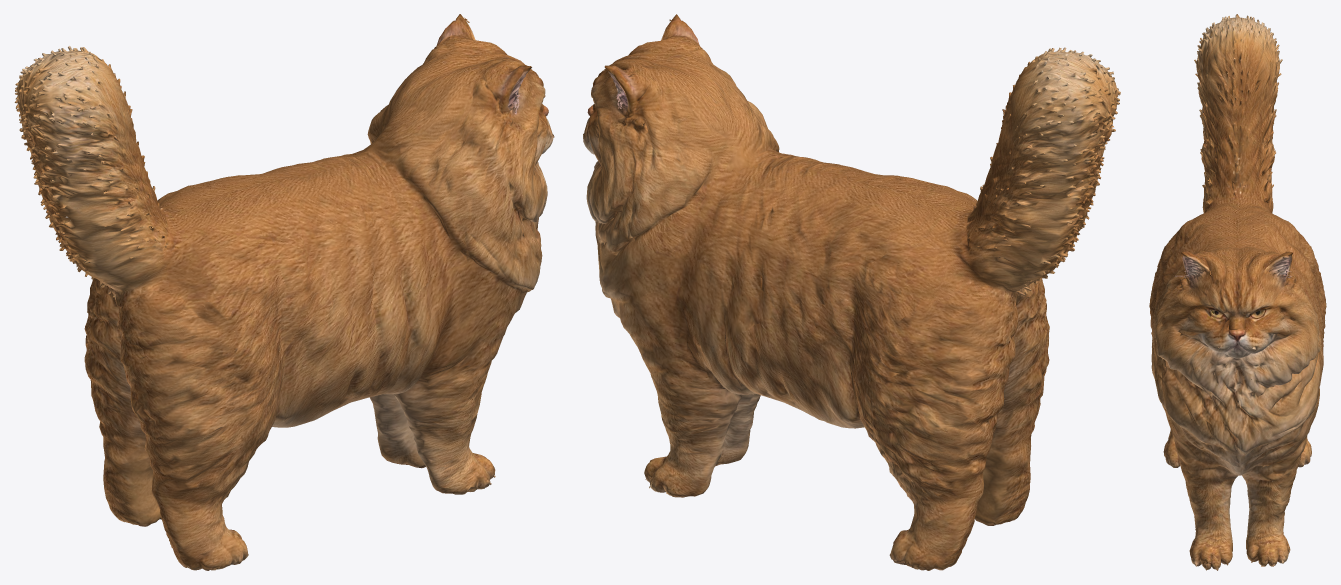
File: LECHONKCAT.glb
3 renders of one model, left to right at view 1: azimuth 30°, elevation 25°; view 2: azimuth 150°, elevation 25°; view 3: azimuth 270°, elevation 25°, orthographic. The views are drawn at different scales.
Visible parts, largest first — view 1: tripo_node_59344808-d0b5-47fb-93b3-78a2786b65c3; view 2: tripo_node_59344808-d0b5-47fb-93b3-78a2786b65c3; view 3: tripo_node_59344808-d0b5-47fb-93b3-78a2786b65c3.
Boxes of the visible parts, x1,y1,x2,y2 form: tripo_node_59344808-d0b5-47fb-93b3-78a2786b65c3: [14, 14, 554, 570]; tripo_node_59344808-d0b5-47fb-93b3-78a2786b65c3: [583, 14, 1120, 570]; tripo_node_59344808-d0b5-47fb-93b3-78a2786b65c3: [1149, 14, 1326, 570].
Bounding box in the file's own units: 1.07 × 0.9998 × 0.4002.
Materials: 1 (1 with a texture image).
